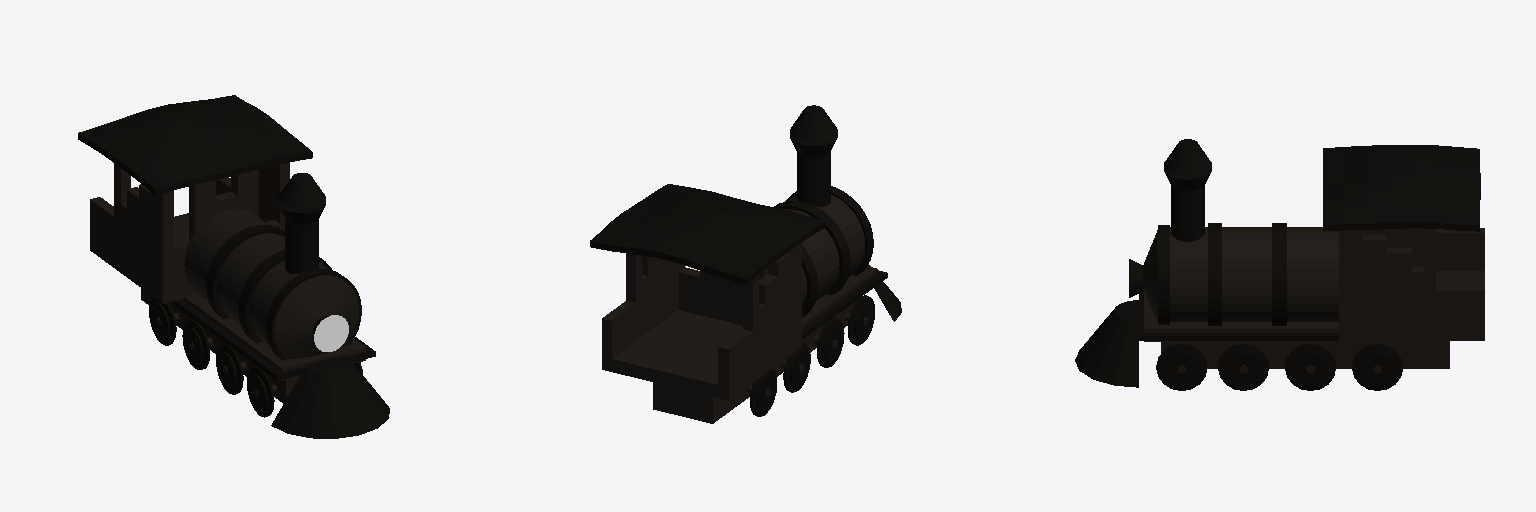
The model's file is Train.obj.
The picture shows the model from 3 angles: view 1: azimuth 30°, elevation 25°; view 2: azimuth 150°, elevation 25°; view 3: azimuth 270°, elevation 25°; orthographic projection.
Visible parts, largest first — view 1: Plane, Cube.001_Cube.002, Cylinder, Cylinder.002_Cylinder.003, Cone, Cylinder.013_Cylinder.021, Cylinder.001, Cube_Cube.001, Cube.002_Cube.003, Cylinder.007_Cylinder.008, Cylinder.009_Cylinder.010, Cylinder.008_Cylinder.009 (+2 smaller); view 2: Cube.001_Cube.002, Plane, Cylinder.013_Cylinder.021, Cylinder.001, Cylinder, Cube.003_Cube.004, Cylinder.008_Cylinder.009, Cube.002_Cube.003, Cube_Cube.001, Cylinder.009_Cylinder.010, Cylinder.007_Cylinder.008, Cylinder.002_Cylinder.003; view 3: Cube.001_Cube.002, Plane, Cylinder, Cylinder.013_Cylinder.021, Cylinder.002_Cylinder.003, Cube.003_Cube.004, Cylinder.001, Cube_Cube.001, Cube.002_Cube.003, Cylinder.007_Cylinder.008, Cylinder.008_Cylinder.009, Cylinder.009_Cylinder.010 (+1 smaller).
Boxes of the visible parts, box(x1,y1,x2,y2) form: Plane: box(78, 95, 312, 195); Cube.001_Cube.002: box(90, 162, 289, 303); Cylinder: box(184, 209, 356, 345); Cylinder.002_Cylinder.003: box(271, 355, 389, 438); Cone: box(274, 276, 358, 359); Cylinder.013_Cylinder.021: box(149, 297, 362, 417); Cylinder.001: box(278, 173, 325, 273); Cube_Cube.001: box(183, 294, 365, 380); Cube.002_Cube.003: box(174, 299, 375, 380); Cylinder.007_Cylinder.008: box(206, 225, 284, 318); Cylinder.009_Cylinder.010: box(266, 269, 361, 360); Cylinder.008_Cylinder.009: box(238, 250, 331, 342); Cube.001_Cube.002: box(602, 243, 801, 400); Plane: box(590, 184, 824, 284); Cylinder.013_Cylinder.021: box(750, 295, 874, 416); Cylinder.001: box(790, 105, 837, 206); Cylinder: box(784, 194, 864, 306); Cube.003_Cube.004: box(653, 301, 855, 423); Cylinder.008_Cylinder.009: box(774, 201, 850, 294); Cube.002_Cube.003: box(802, 270, 887, 339); Cube_Cube.001: box(802, 266, 877, 327); Cylinder.009_Cylinder.010: box(785, 186, 873, 275); Cylinder.007_Cylinder.008: box(802, 245, 817, 317); Cylinder.002_Cylinder.003: box(868, 264, 901, 321); Cube.001_Cube.002: box(1339, 228, 1484, 340); Plane: box(1323, 145, 1480, 231); Cylinder: box(1170, 227, 1338, 321); Cylinder.013_Cylinder.021: box(1156, 344, 1402, 390); Cylinder.002_Cylinder.003: box(1075, 300, 1143, 387); Cube.003_Cube.004: box(1161, 341, 1449, 368); Cylinder.001: box(1164, 139, 1211, 241); Cube_Cube.001: box(1144, 291, 1340, 341); Cube.002_Cube.003: box(1139, 291, 1338, 340); Cylinder.007_Cylinder.008: box(1272, 223, 1286, 325); Cylinder.008_Cylinder.009: box(1208, 223, 1221, 325); Cylinder.009_Cylinder.010: box(1158, 225, 1169, 324).
Size of the model in its own units: 3.74 by 5.1 by 8.4.